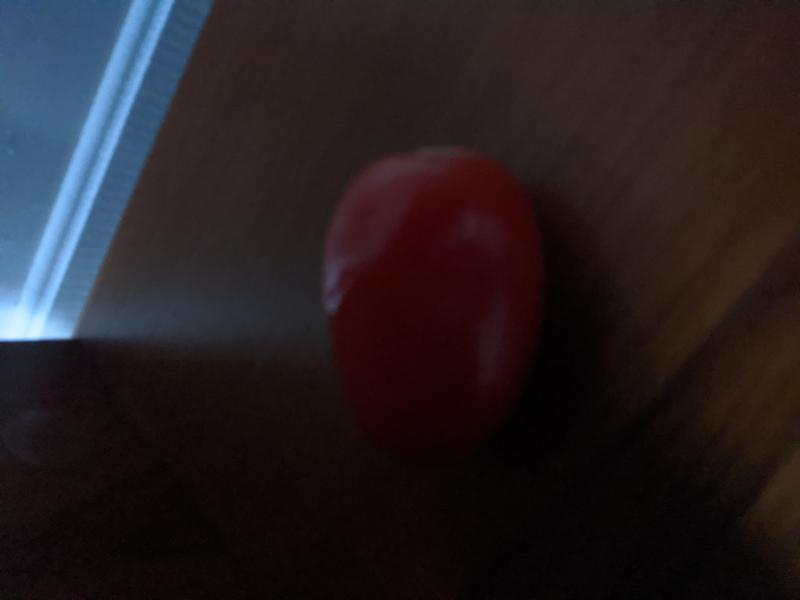tomato: (317, 145, 544, 467)
